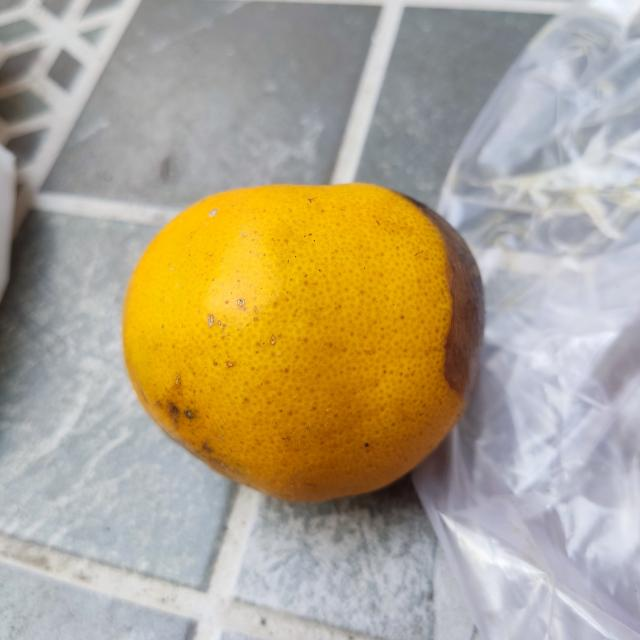orange: (113, 178, 490, 509)
